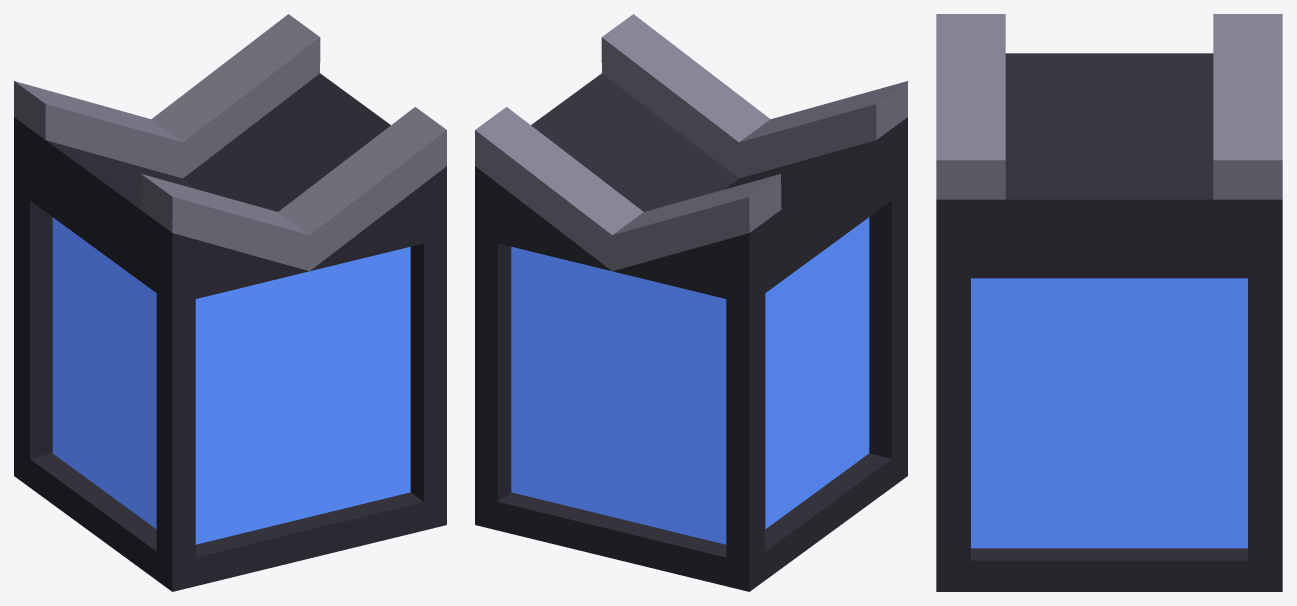
Rendered from TopSlanted.fbx.
3 views of the same model, side by side, from view 1: azimuth 30°, elevation 25°; view 2: azimuth 150°, elevation 25°; view 3: azimuth 270°, elevation 25° (orthographic). The views are drawn at different scales.
Parts seen in each view (by area): view 1: TopSlanted; view 2: TopSlanted; view 3: TopSlanted.
Boxes of the visible parts, box(x1,y1,x2,y2) form: TopSlanted: box(14, 14, 446, 591); TopSlanted: box(475, 14, 907, 591); TopSlanted: box(936, 14, 1282, 591).
Bounding box in the file's own units: 200 × 275 × 200.
